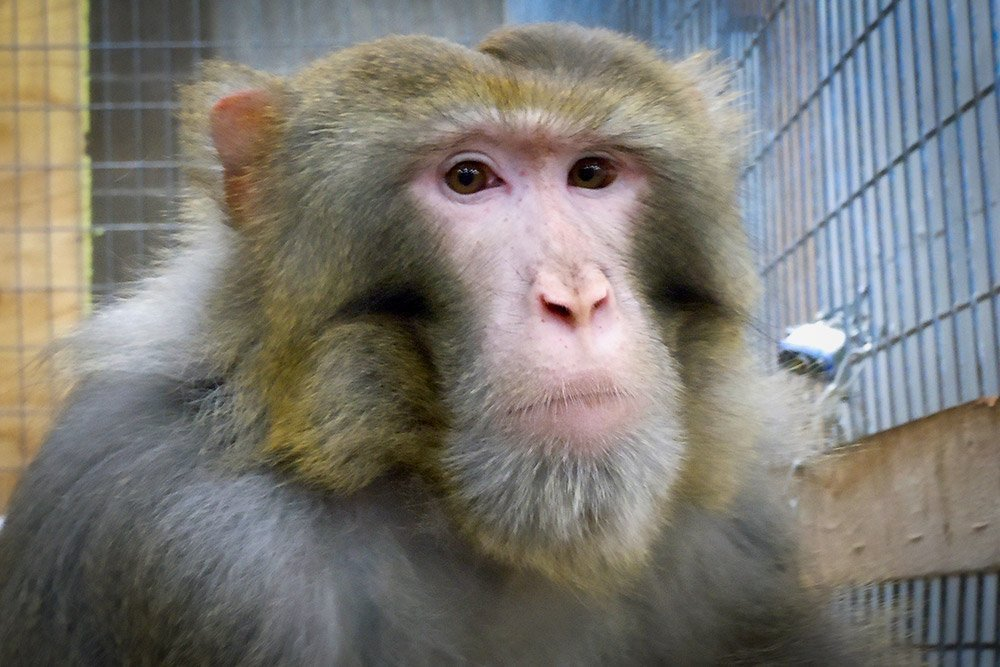monkey: (1, 17, 806, 667)
